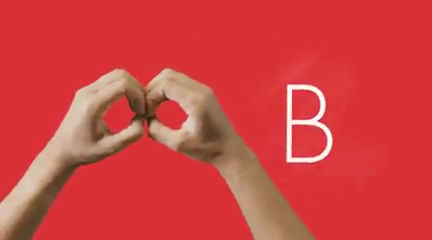B: (56, 61, 242, 176)
